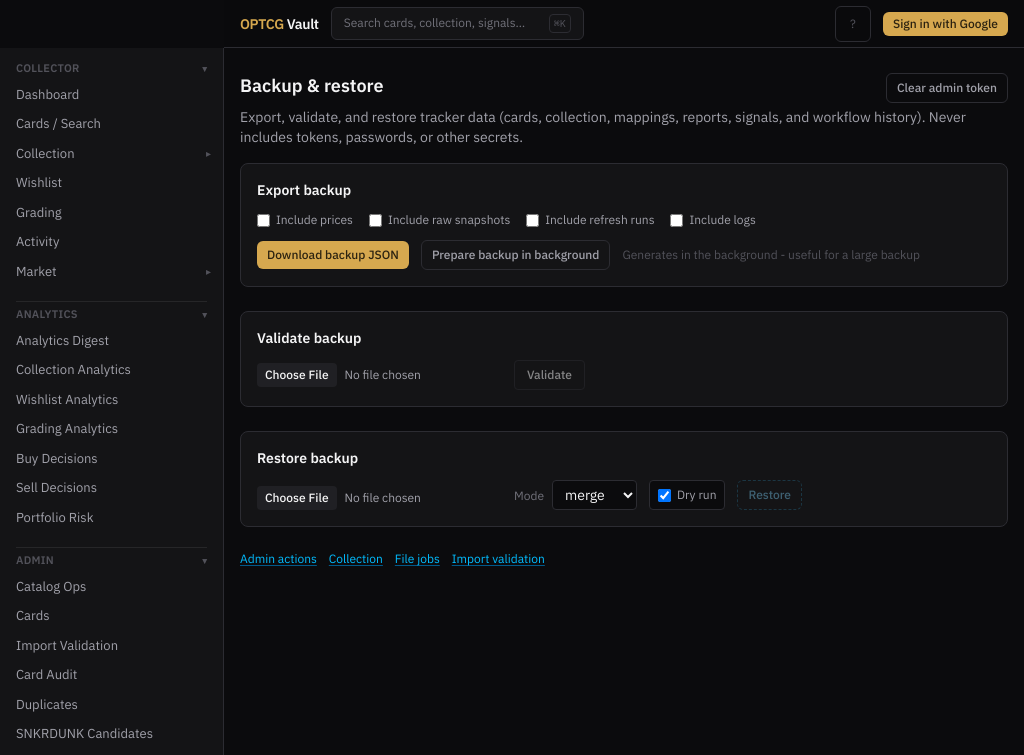
Test: AdminBackupPage background export › creates a background export job and shows the file job tracker
The image size is (1024, 755).
What coordinates should you click on to do the following:
click the button "Prepare backup in background"
I would click on:
 (516, 255)
Its box is x1=421 y1=240 x2=610 y2=270.
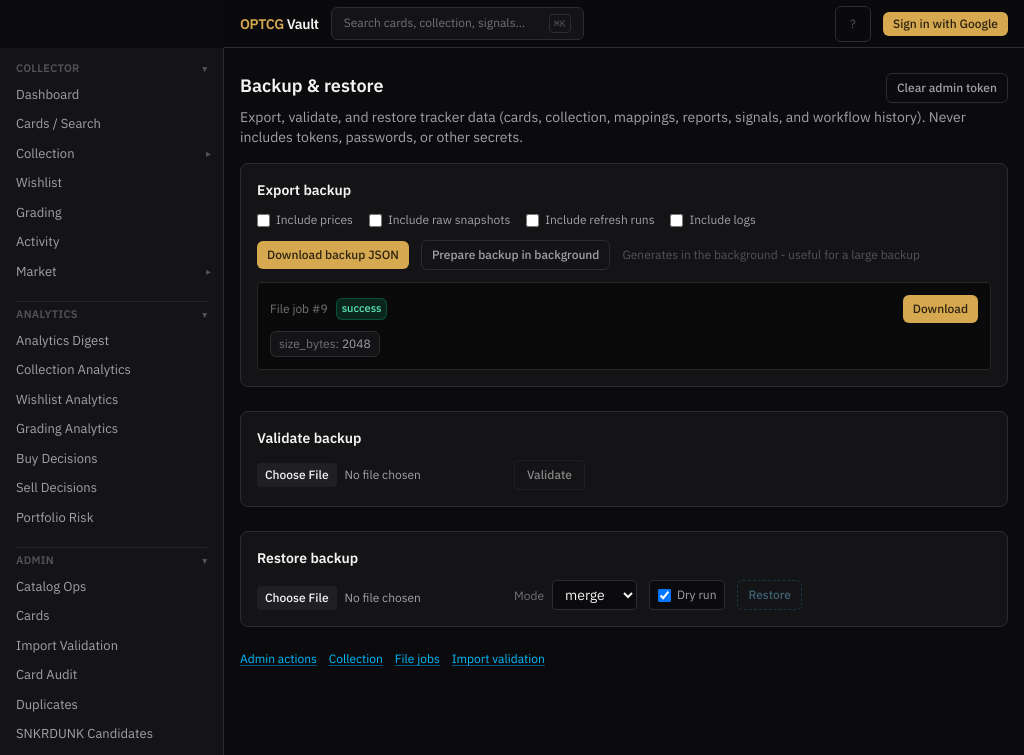
Expected: the text "File job #9" is shown, x1=270 y1=301 x2=328 y2=317
